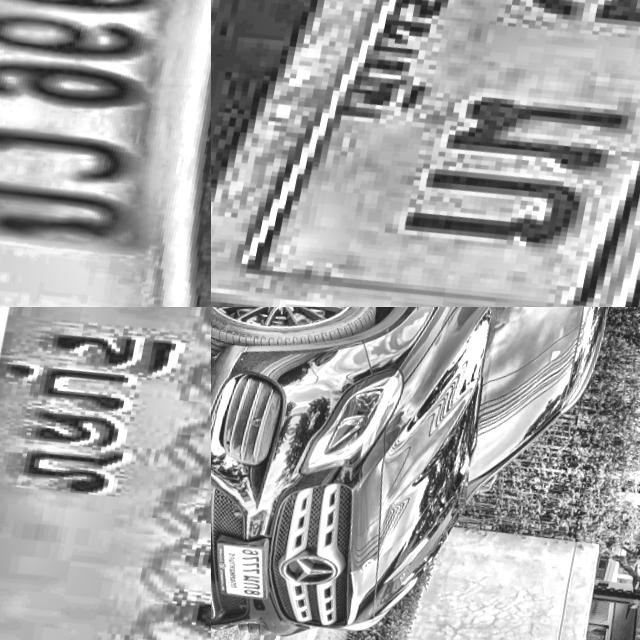license-plate: (211, 0, 640, 307), (0, 307, 211, 640), (0, 0, 211, 307), (211, 530, 281, 607)
